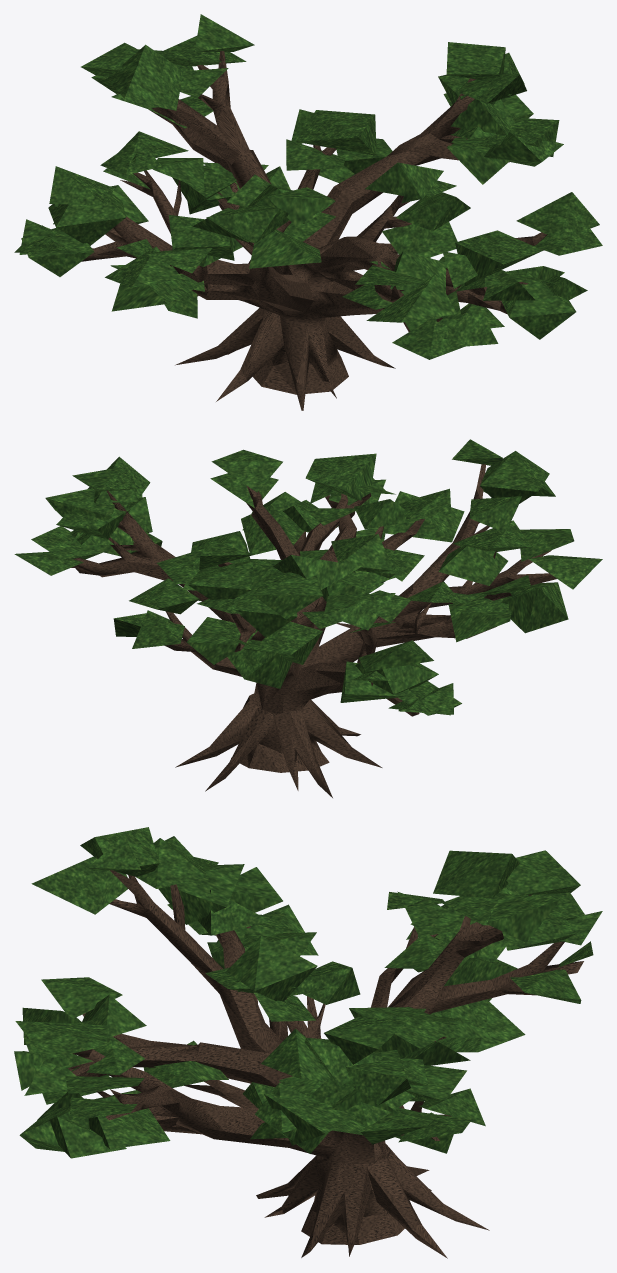
File: arbol_panteon_lod.obj
The picture shows the model from 3 angles, top to bottom: view 1: azimuth 30°, elevation 25°; view 2: azimuth 150°, elevation 25°; view 3: azimuth 270°, elevation 25°; orthographic projection. The views are drawn at different scales.
Parts seen in each view (by area): view 1: Arbol_Follaje, Arbol_Tronco; view 2: Arbol_Follaje, Arbol_Tronco; view 3: Arbol_Follaje, Arbol_Tronco.
Boxes of the visible parts, x1=… form: Arbol_Follaje: x1=14, y1=14, x2=602, y2=359; Arbol_Tronco: x1=81, y1=51, x2=547, y2=410; Arbol_Follaje: x1=14, y1=439, x2=602, y2=715; Arbol_Tronco: x1=71, y1=464, x2=556, y2=797; Arbol_Follaje: x1=14, y1=827, x2=602, y2=1158; Arbol_Tronco: x1=68, y1=870, x2=583, y2=1258.
Bounding box in the file's own units: 16.36 × 9.23 × 14.96.
Materials: 2 (2 with a texture image).
